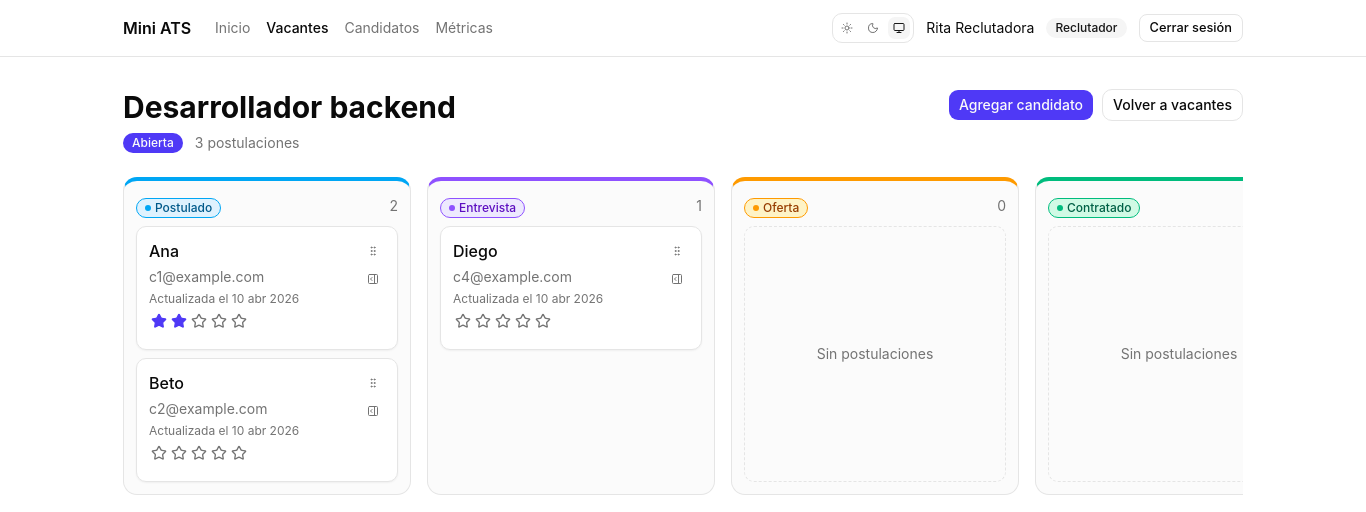
Rating applications on the board › puts back only the previous rating and shows a toast when saving fails
This screenshot has width=1366, height=512.
expect the link "Ana" is shown: met, box top-left (149, 241), bottom-right (179, 261)
Click the button named "Calificar con 5 estrellas" below "c2@example.com" at [239, 453], box top-left (229, 443), bottom-right (249, 463)
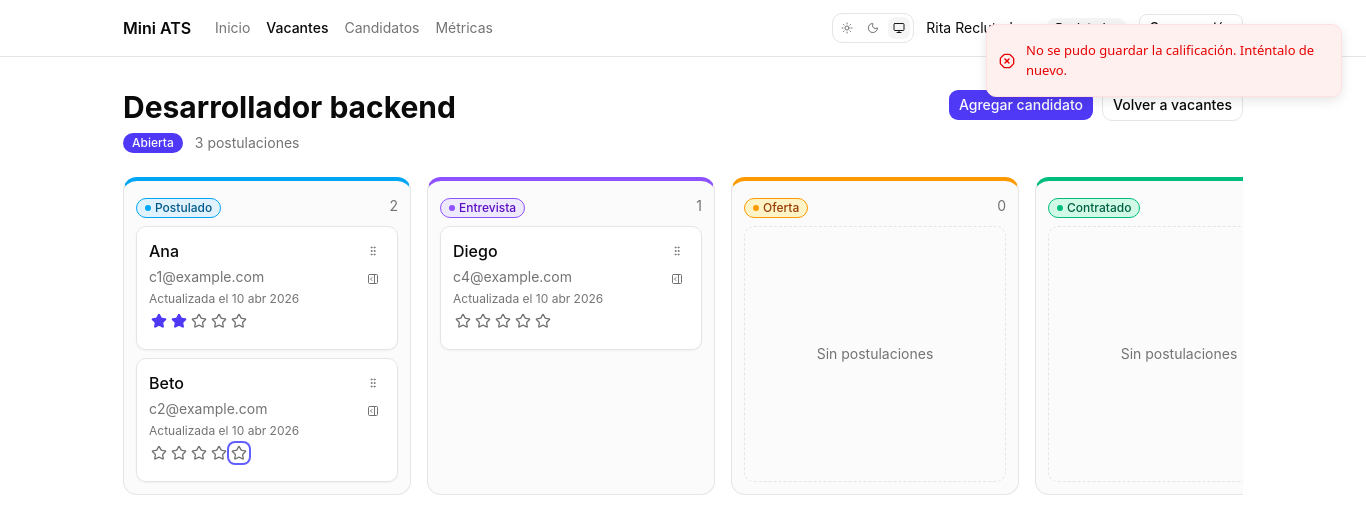
expect the text "No se pudo guardar la calificación. Inténtalo de nuevo." is shown: met, box top-left (1026, 41), bottom-right (1325, 80)
